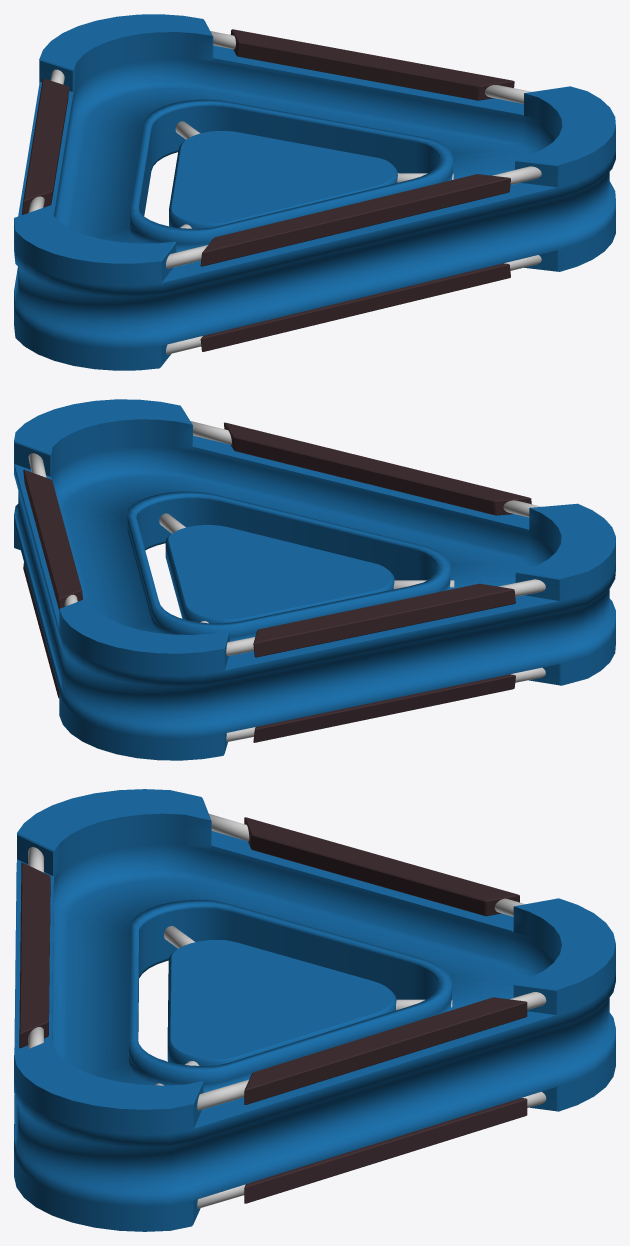
Rendered from boxblue03.fbx.
3 renders of one model, top to bottom at view 1: azimuth 30°, elevation 25°; view 2: azimuth 150°, elevation 25°; view 3: azimuth 270°, elevation 25°, orthographic. The views are drawn at different scales.
Visible parts, largest first — view 1: Cube.001; view 2: Cube.001; view 3: Cube.001.
Boxes of the visible parts, box(x1,y1,x2,y2) form: Cube.001: box(14, 14, 615, 370); Cube.001: box(14, 399, 615, 760); Cube.001: box(14, 789, 615, 1231).
Size of the model in its own units: 580 by 103 by 460.
